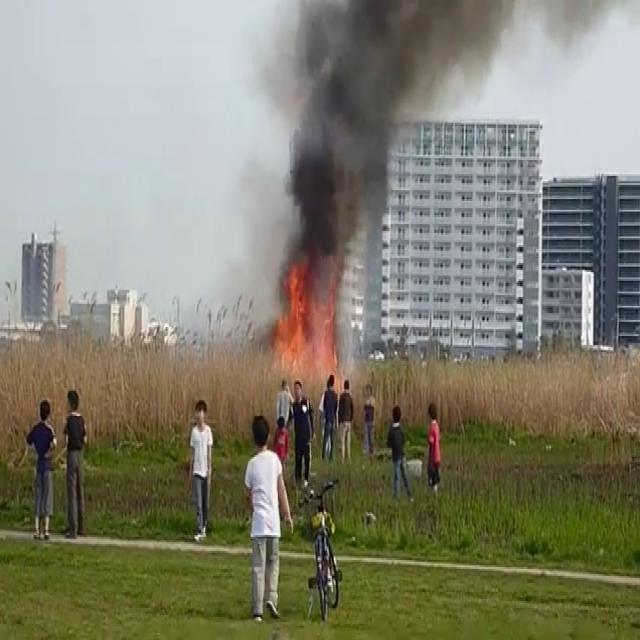Fire: (265, 261, 341, 393)
Smoke: (242, 0, 439, 338)
